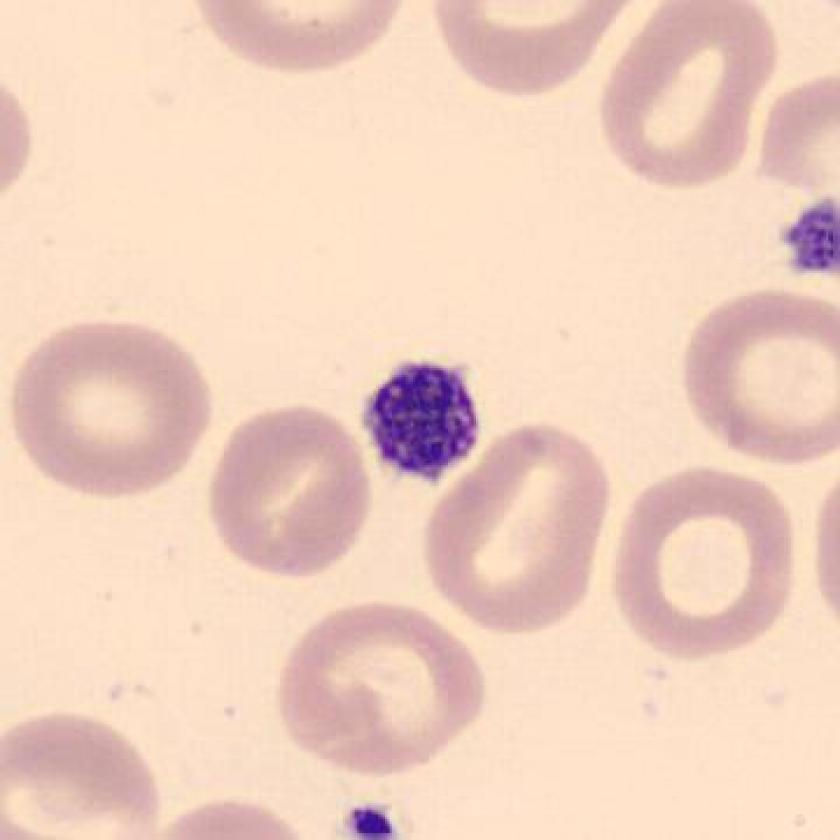platelets: (349, 344, 496, 499), (773, 186, 840, 290)
